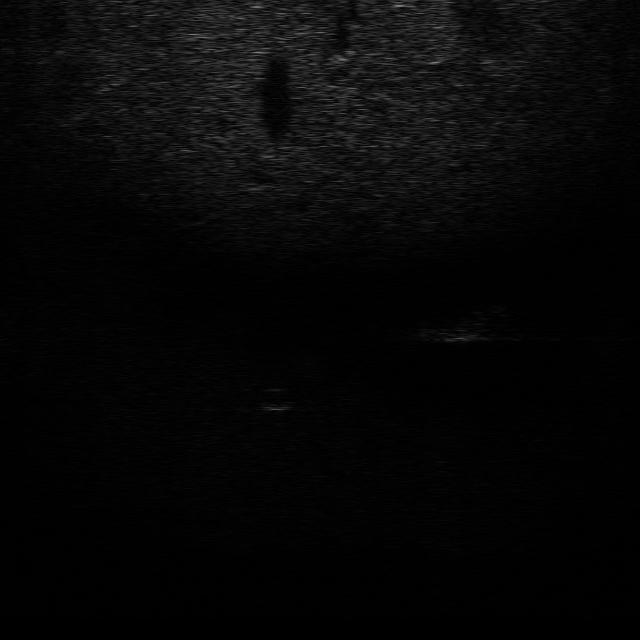ball: (249, 384, 296, 414)
human body: (411, 303, 510, 350)
